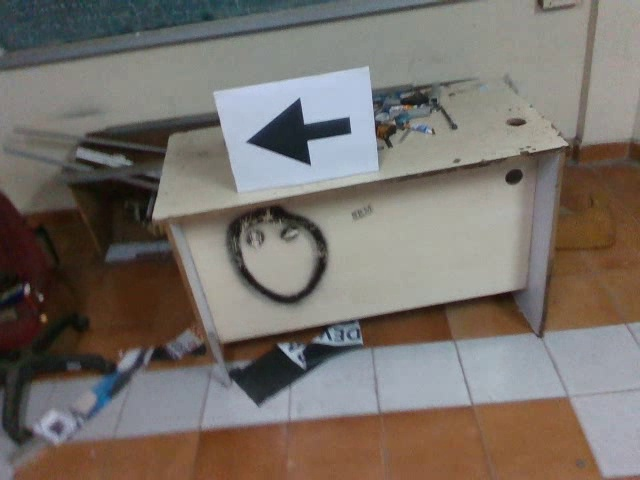Left: (239, 94, 356, 171)
